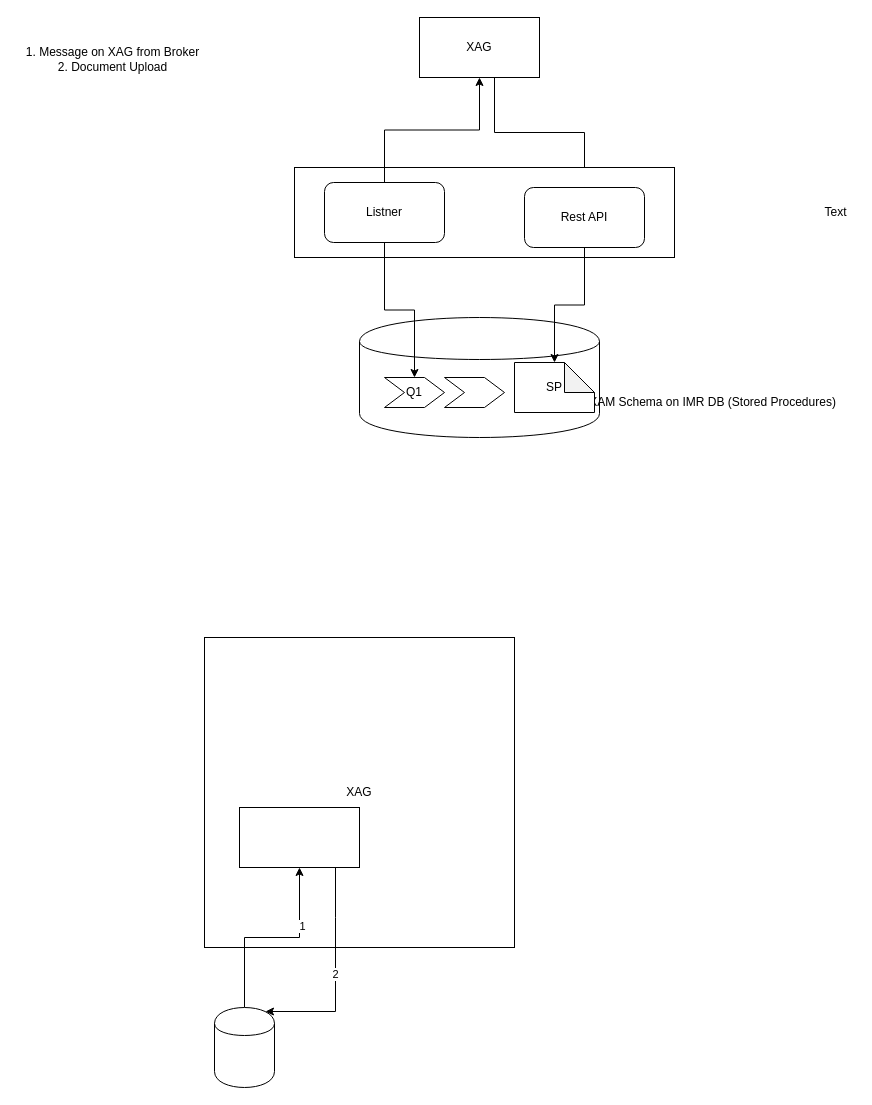
This 872x1105 diagram has some shape labels left out. Here are the shapes that lost their labels. From the top down, the box of each, then its label:
(294, 166, 674, 258): API Layer
(444, 376, 504, 408): Q2
(238, 806, 360, 868): Msg
